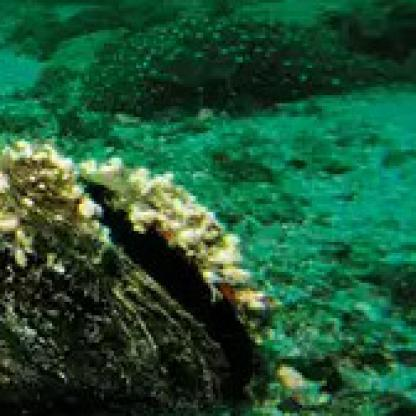Oyster-Open: (0, 146, 268, 416)
